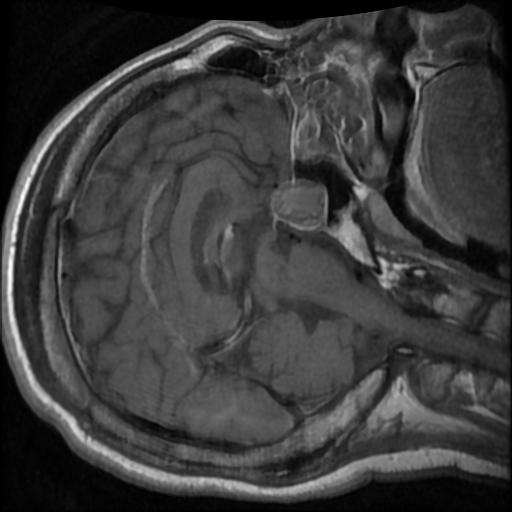pituitary tumour: (272, 178, 331, 231)
